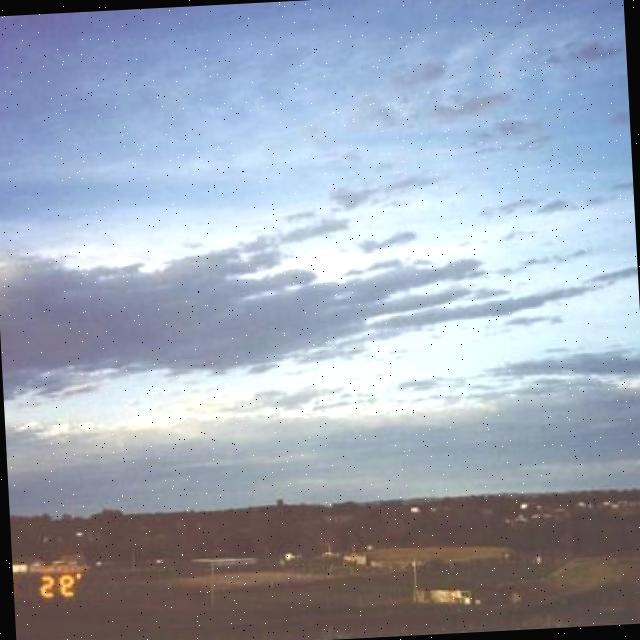Cc: (1, 1, 640, 445)
